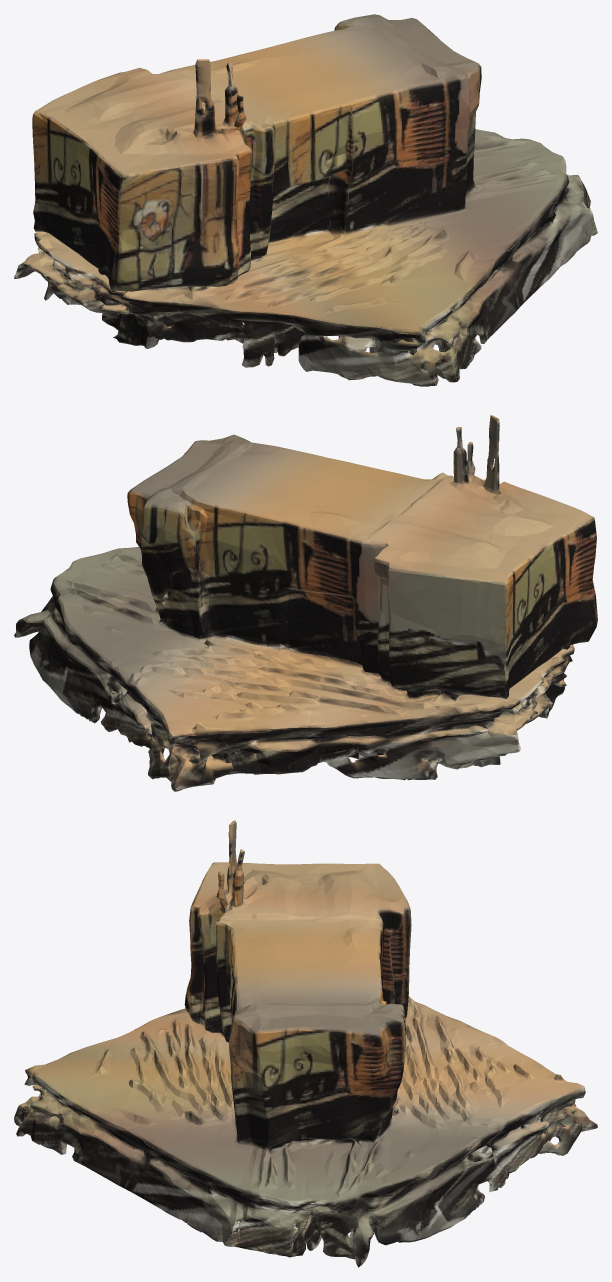
File: power_pole.glb
The picture shows the model from 3 angles, top to bottom: view 1: azimuth 30°, elevation 25°; view 2: azimuth 150°, elevation 25°; view 3: azimuth 270°, elevation 25°; orthographic projection. The views are drawn at different scales.
Parts seen in each view (by area): view 1: power_pole; view 2: power_pole; view 3: power_pole.
Boxes of the visible parts, <box> form: power_pole: <box>14,14,597,386</box>; power_pole: <box>14,415,597,791</box>; power_pole: <box>14,820,597,1267</box>.
Bounding box in the file's own units: 0.7574 × 0.401 × 0.7856.
1 material, 1 textured.
